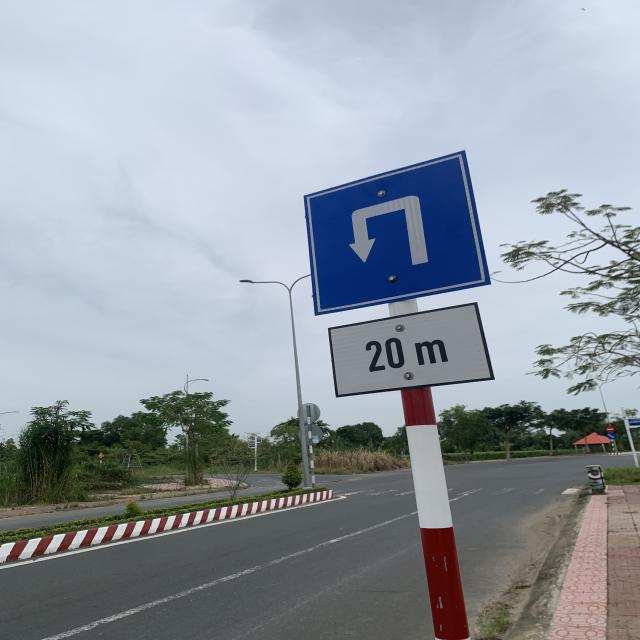Den_Giao_Thong: (304, 154, 488, 316)
